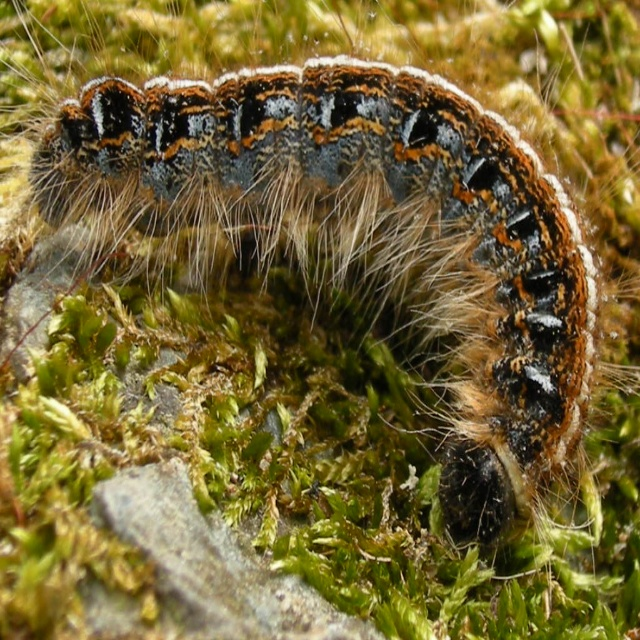Caterpillar: (0, 0, 639, 581)
